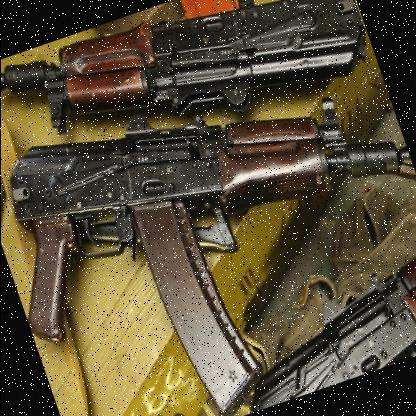rifle: (0, 22, 416, 406), (0, 0, 390, 221), (203, 235, 416, 416)
